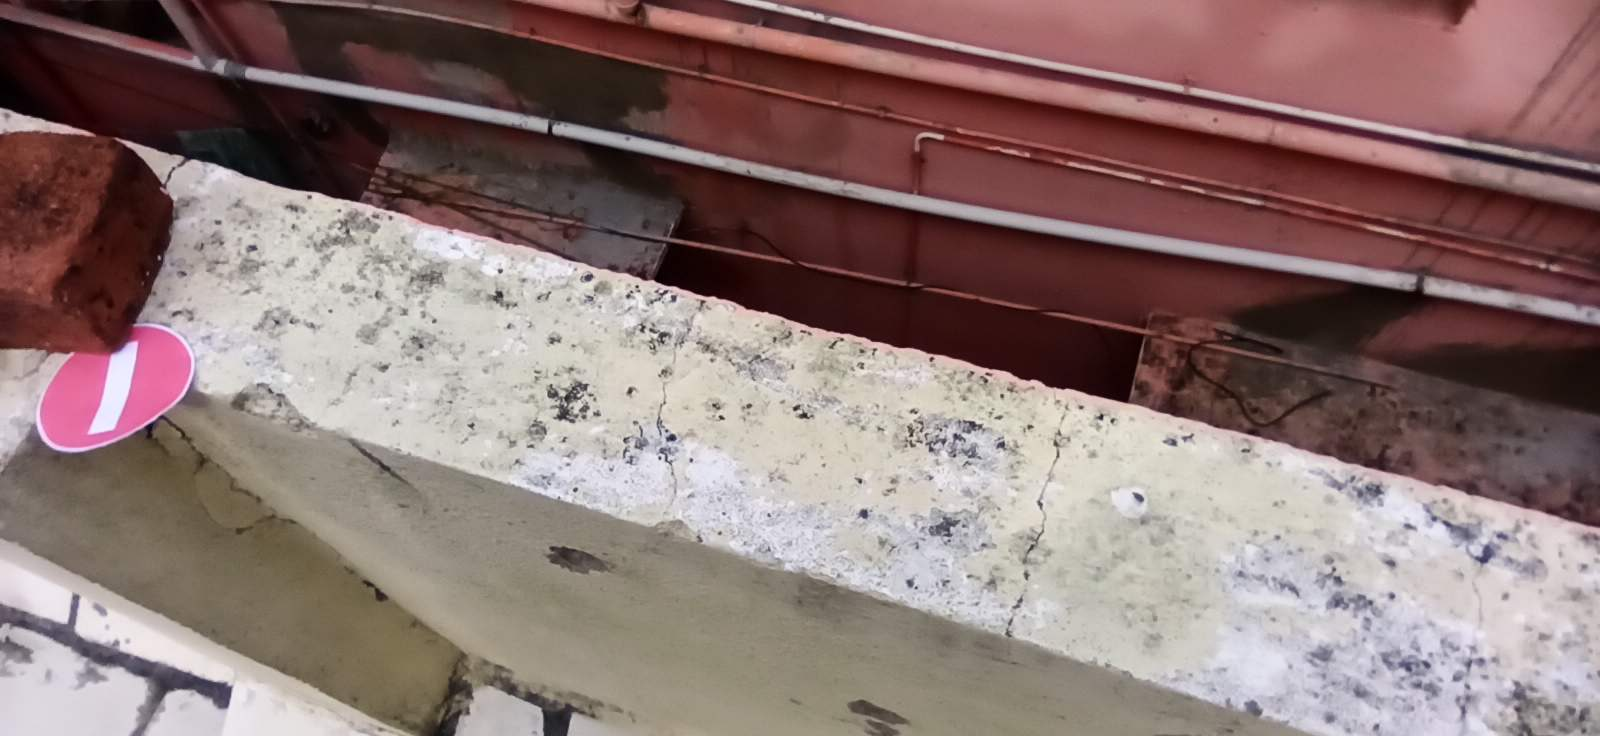NO ENTRY: (22, 300, 200, 462)
